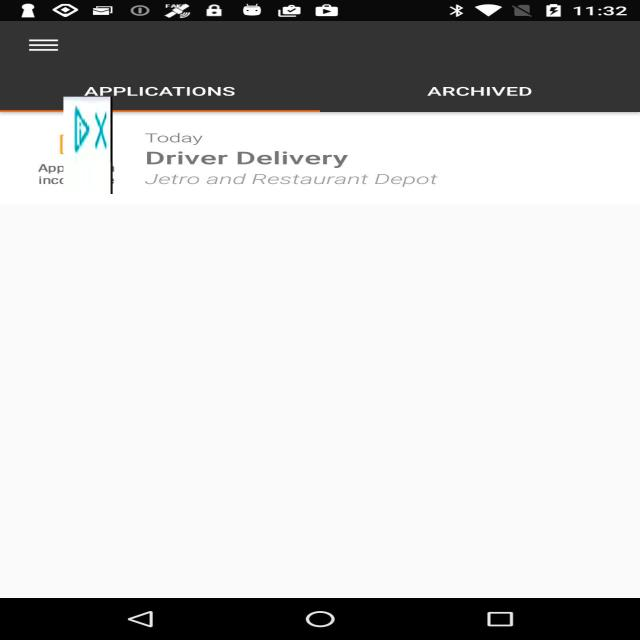sneaking: (64, 97, 112, 194)
